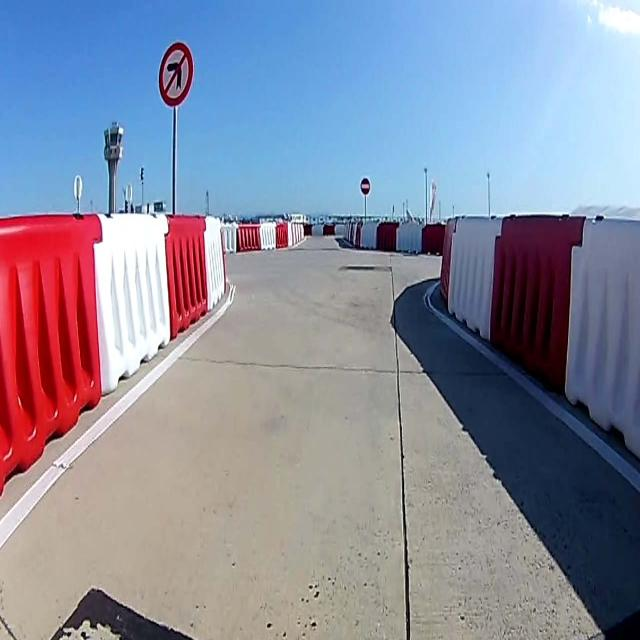girisyok: (360, 177, 370, 195)
soladonulmez: (158, 41, 194, 107)
